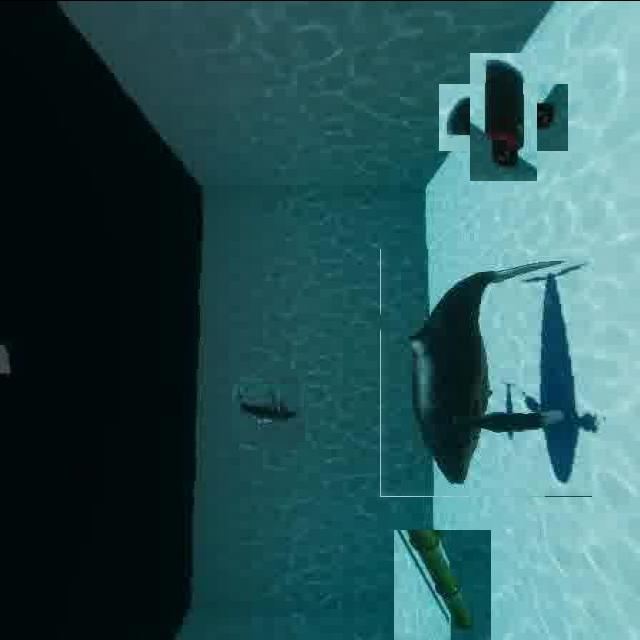Cylinder: (454, 68, 552, 166)
Pipe: (393, 529, 491, 640)
Whale: (380, 248, 592, 496), (236, 380, 302, 446)
